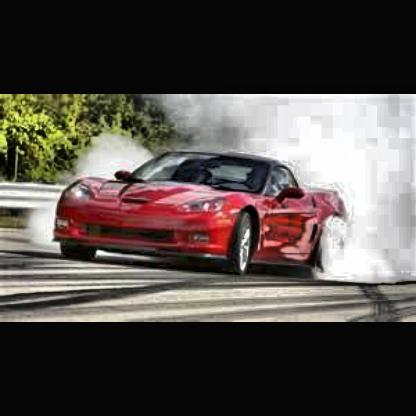Chevrolet Corvette ZR1 2012: (54, 142, 347, 294)
